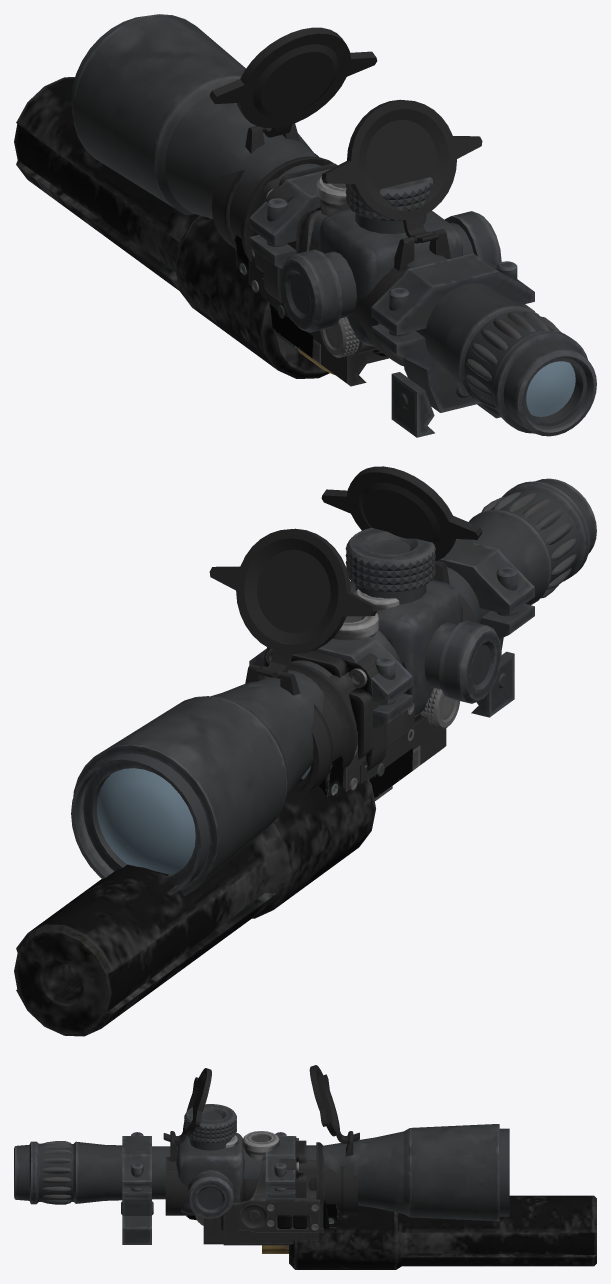
The model's file is attachments.glb.
3 views of the same model, one above another, from view 1: azimuth 30°, elevation 25°; view 2: azimuth 150°, elevation 25°; view 3: azimuth 270°, elevation 25° (orthographic). The views are drawn at different scales.
Visible parts, largest first — view 1: Scope 3.001, Scope 1, Silencer 1, Sight 3, Sight 2; view 2: Scope 3.001, Silencer 1, Scope 1, Sight 3, Sight 2; view 3: Scope 3.001, Silencer 1, Scope 1, Sight 3.
Boxes of the visible parts, left/top/right/bottom form: Scope 3.001: left=71, top=14, right=596, bottom=437; Scope 1: left=209, top=27, right=482, bottom=386; Silencer 1: left=14, top=77, right=334, bottom=378; Sight 3: left=248, top=178, right=377, bottom=357; Sight 2: left=234, top=235, right=386, bottom=358; Scope 3.001: left=71, top=478, right=596, bottom=895; Silencer 1: left=14, top=778, right=375, bottom=1036; Scope 1: left=209, top=466, right=482, bottom=797; Sight 3: left=329, top=672, right=460, bottom=791; Sight 2: left=319, top=716, right=414, bottom=798; Scope 3.001: left=14, top=1104, right=509, bottom=1244; Silencer 1: left=262, top=1195, right=596, bottom=1269; Scope 1: left=163, top=1065, right=359, bottom=1244; Sight 3: left=195, top=1145, right=328, bottom=1245.
Bounding box in the file's own units: 0.0697 × 0.1207 × 0.3226.
Materials: 9 (8 with a texture image).
